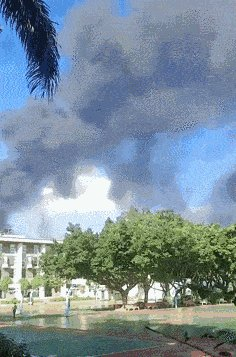smoke: (54, 12, 236, 207)
